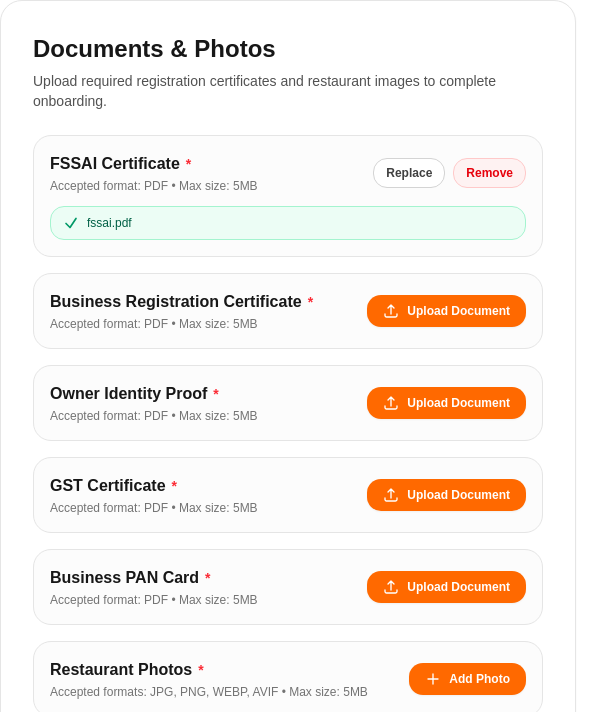
Test case: DocumentsPage › deletes document from S3 and clears document when user clicks remove
Check: the text "fssai.pdf" is shown, box x1=87 y1=215 x2=132 y2=231
Step 1. Click the button "Remove" → x=490, y=173, box x1=453 y1=158 x2=526 y2=188
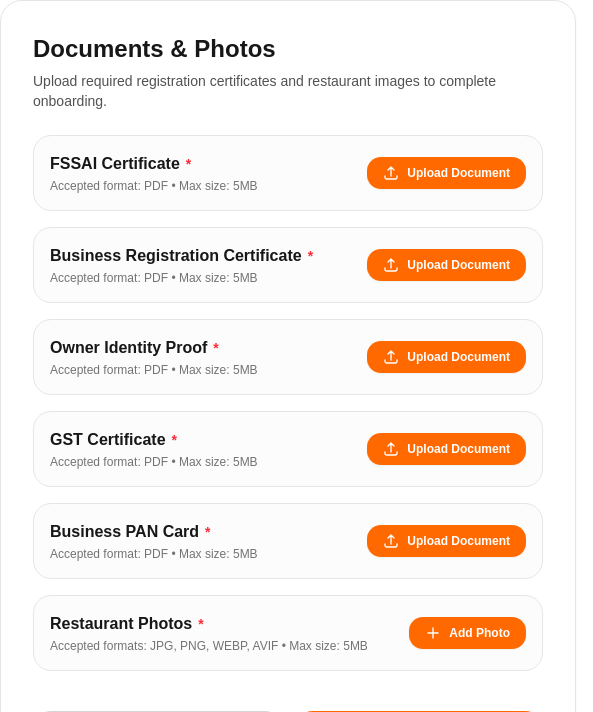
Check: the text "fssai.pdf" is gone
